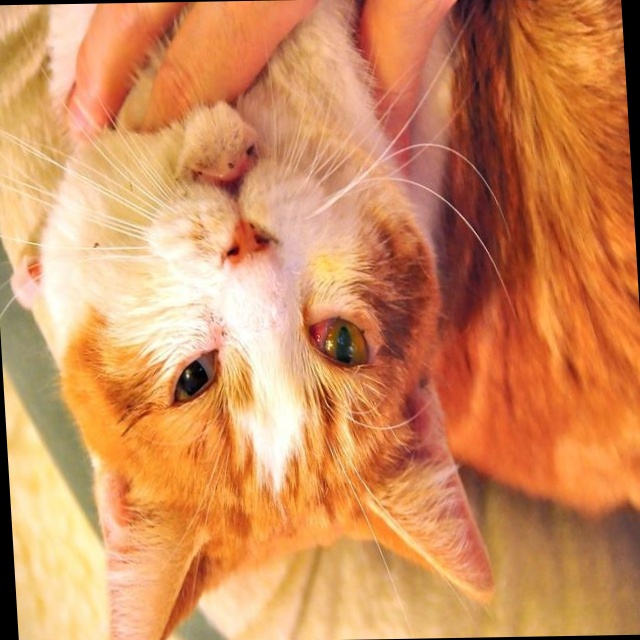eye_infection: (302, 309, 374, 373), (170, 345, 228, 406)
